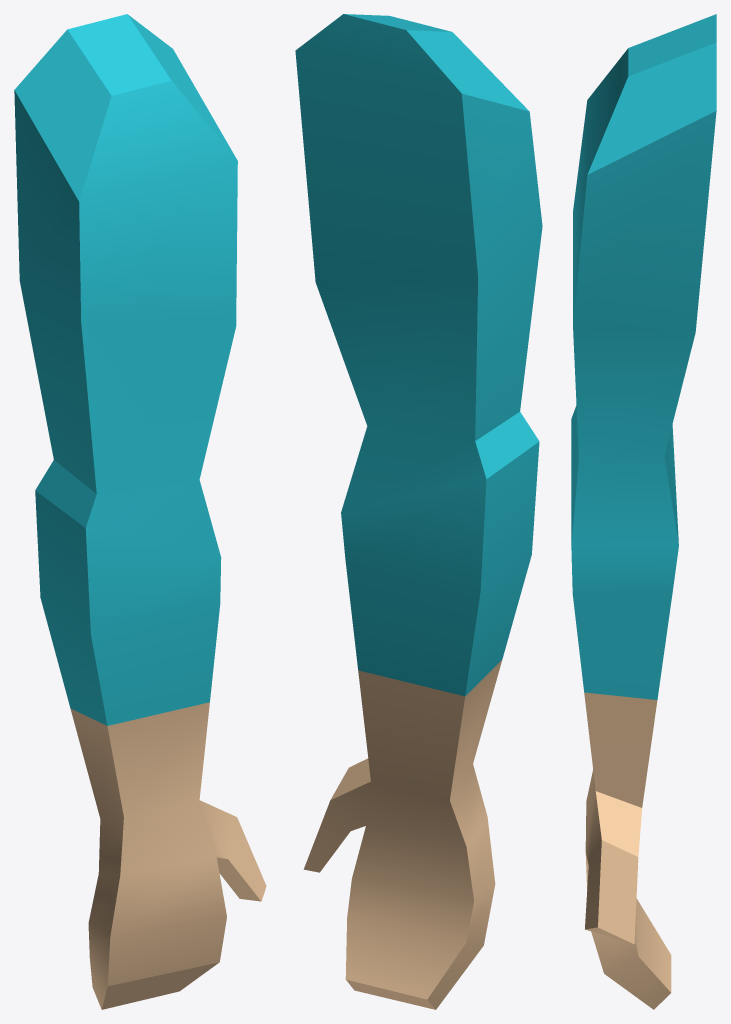
File: arm.fbx
3 views of the same model, side by side, from view 1: azimuth 30°, elevation 25°; view 2: azimuth 150°, elevation 25°; view 3: azimuth 270°, elevation 25° (orthographic). The views are drawn at different scales.
Parts seen in each view (by area): view 1: Arm; view 2: Arm; view 3: Arm.
Part boxes in pixels (left/top/right/bottom): Arm: left=14, top=14, right=266, bottom=1009; Arm: left=295, top=14, right=542, bottom=1009; Arm: left=571, top=14, right=716, bottom=1009.
Bounding box in the file's own units: 350 × 1623 × 223.
